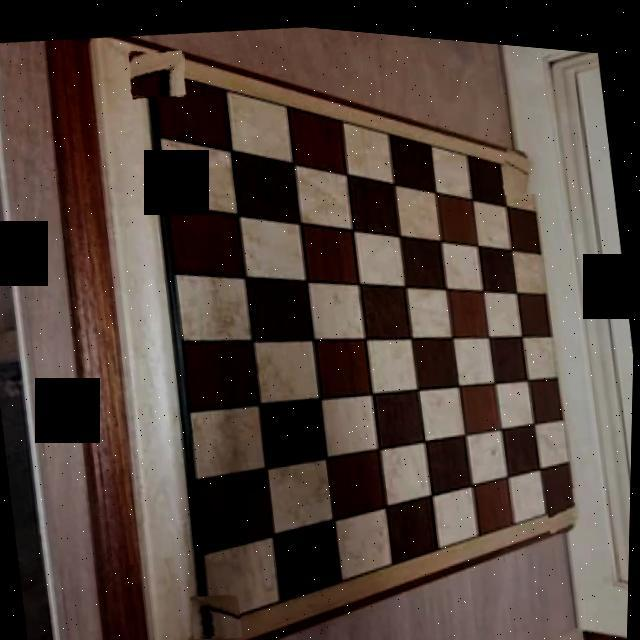chess-table-corners: (126, 42, 190, 100), (190, 586, 247, 638), (499, 134, 548, 187), (546, 474, 592, 525)
